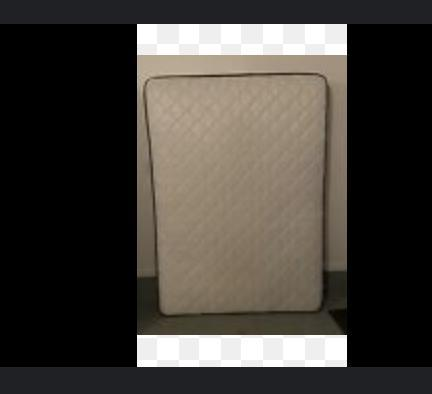Bed-Mattress: (142, 72, 336, 318)
